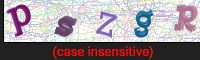R: (172, 1, 199, 38)
Z: (94, 6, 122, 43)
g: (128, 7, 158, 39)
p: (7, 1, 32, 40)
s: (48, 11, 81, 38)
